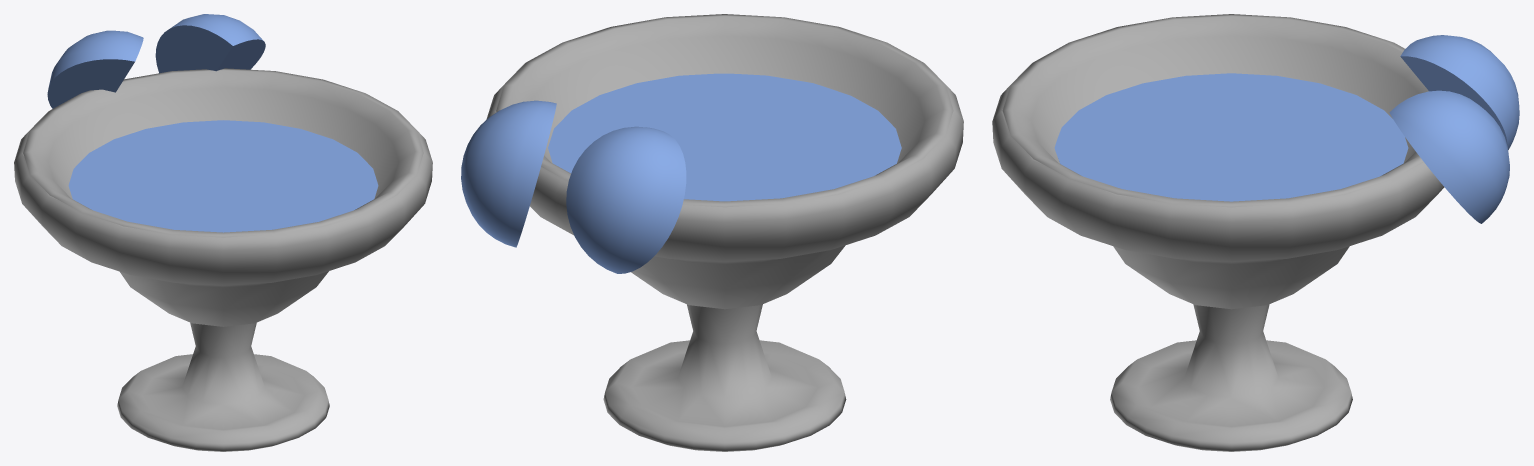
The model's file is blue cocktail.fbx.
The picture shows the model from 3 angles, left to right: view 1: azimuth 30°, elevation 25°; view 2: azimuth 150°, elevation 25°; view 3: azimuth 270°, elevation 25°; orthographic projection. The views are drawn at different scales.
Parts seen in each view (by area): view 1: nurbsToPoly1, pCylinder1, pasted__pSphere1, pSphere1; view 2: nurbsToPoly1, pCylinder1, pSphere1, pasted__pSphere1; view 3: nurbsToPoly1, pCylinder1, pasted__pSphere1, pSphere1.
Part boxes in pixels (x1=…): nurbsToPoly1: x1=14, y1=68, x2=432, y2=451; pCylinder1: x1=68, y1=120, x2=378, y2=232; pasted__pSphere1: x1=155, y1=14, x2=265, y2=73; pSphere1: x1=47, y1=30, x2=143, y2=108; nurbsToPoly1: x1=486, y1=14, x2=963, y2=451; pCylinder1: x1=548, y1=73, x2=901, y2=201; pSphere1: x1=566, y1=126, x2=686, y2=273; pasted__pSphere1: x1=461, y1=100, x2=556, y2=247; nurbsToPoly1: x1=992, y1=14, x2=1444, y2=451; pCylinder1: x1=1054, y1=73, x2=1408, y2=201; pasted__pSphere1: x1=1389, y1=90, x2=1509, y2=223; pSphere1: x1=1400, y1=35, x2=1519, y2=149.
Size of the model in its own units: 6.28 by 5.15 by 6.92.
